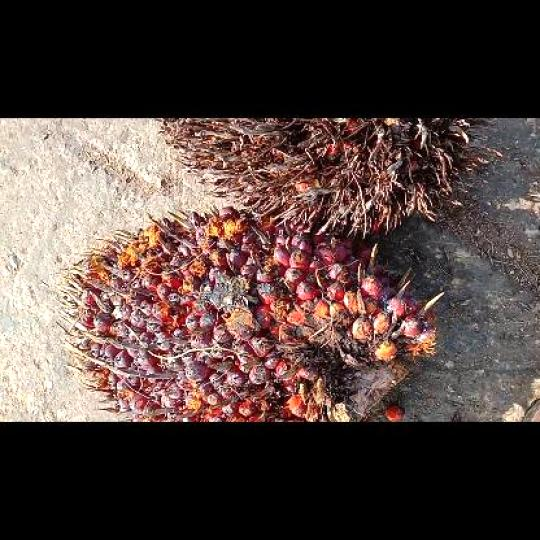masak: (58, 208, 442, 420)
terlalu masak: (161, 119, 491, 237)
